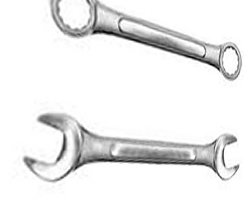Wrench: (22, 62, 250, 193)
